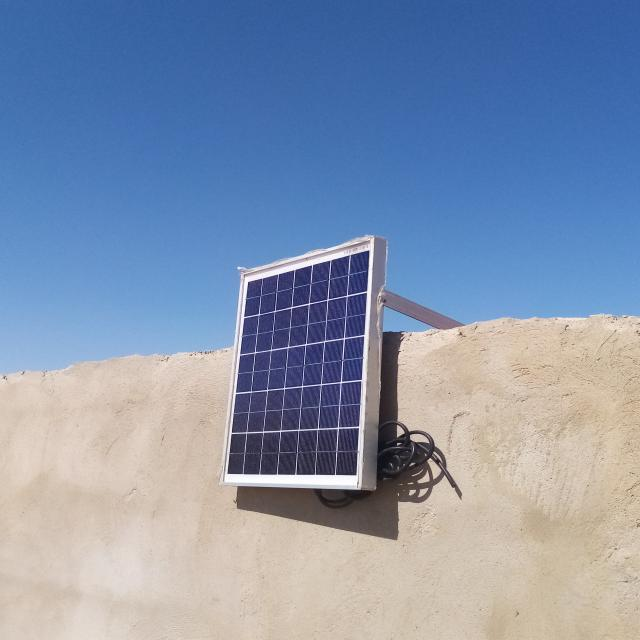no faulty: (222, 237, 377, 488)
